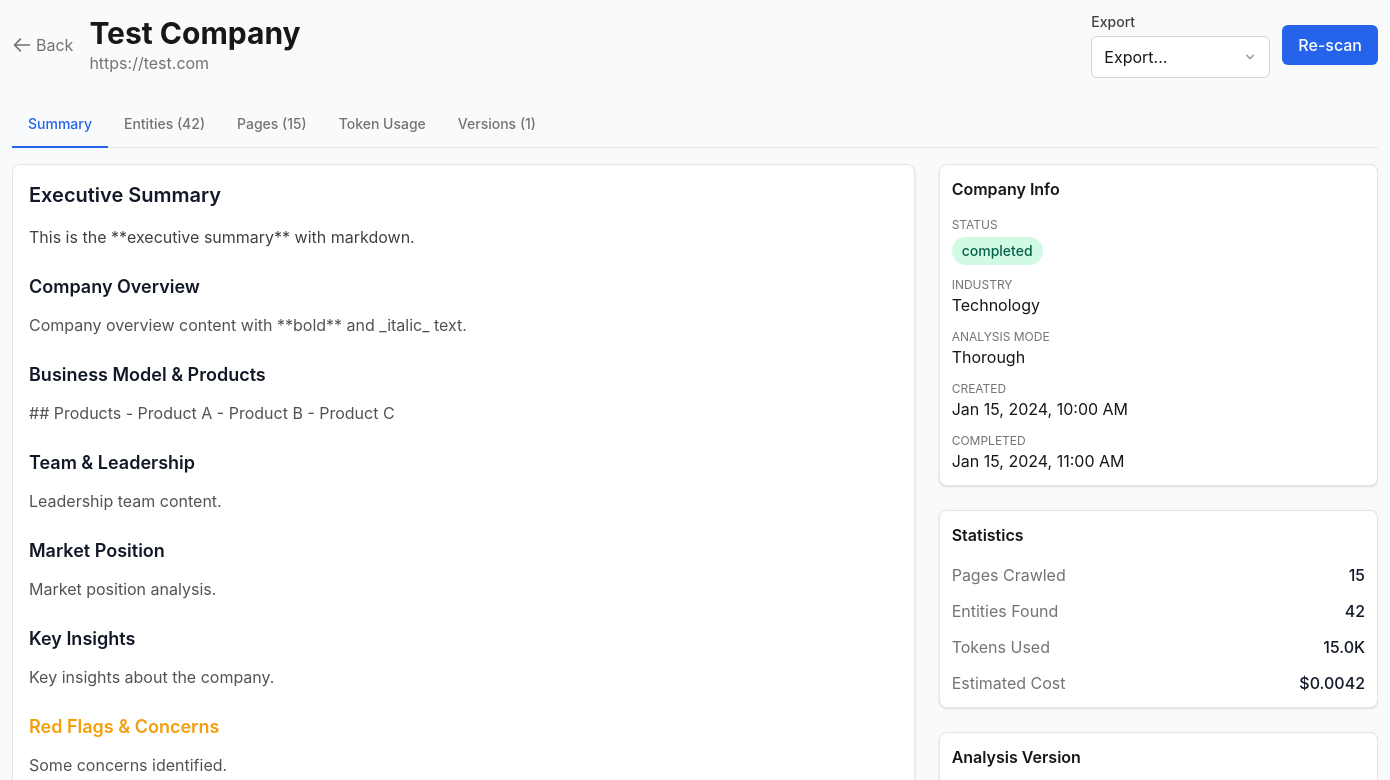
Test: Versions Tab › shows current version badge
// Click versions tab
Click the tab "Versions (1)": (497, 125) [442,102,552,148]
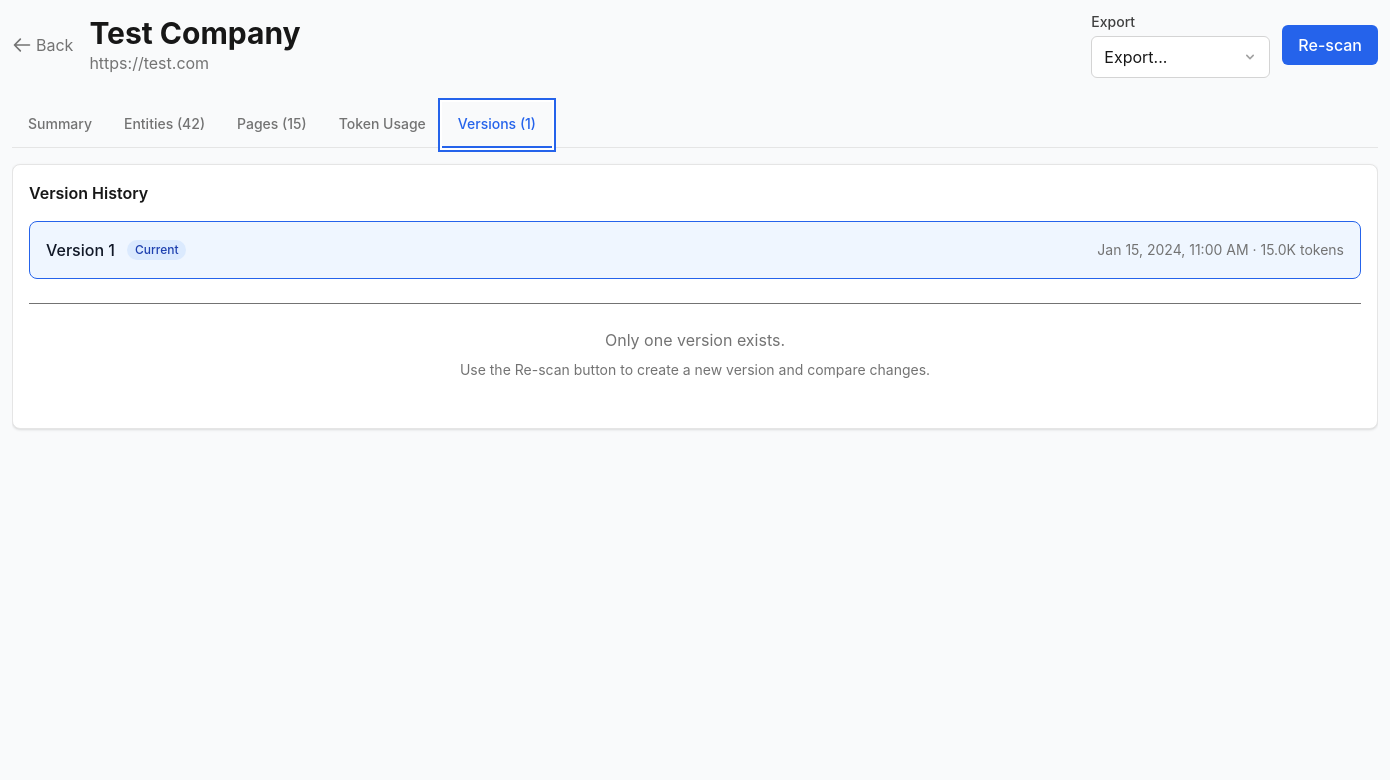
Check: the text "Current" is shown, box [127,240,186,260]
